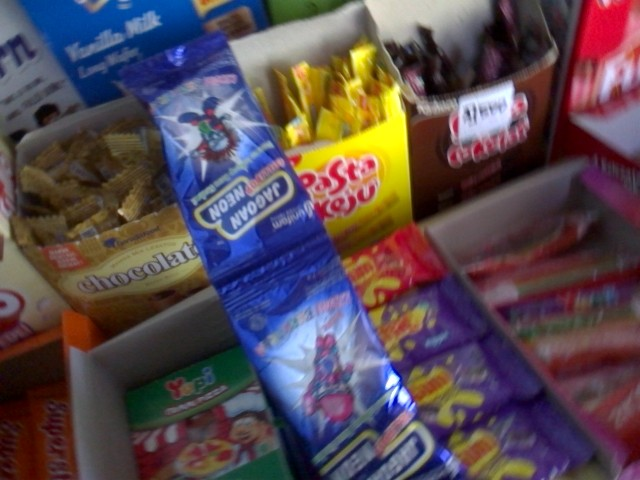jagoan neon: (224, 239, 466, 479), (118, 29, 329, 296)
